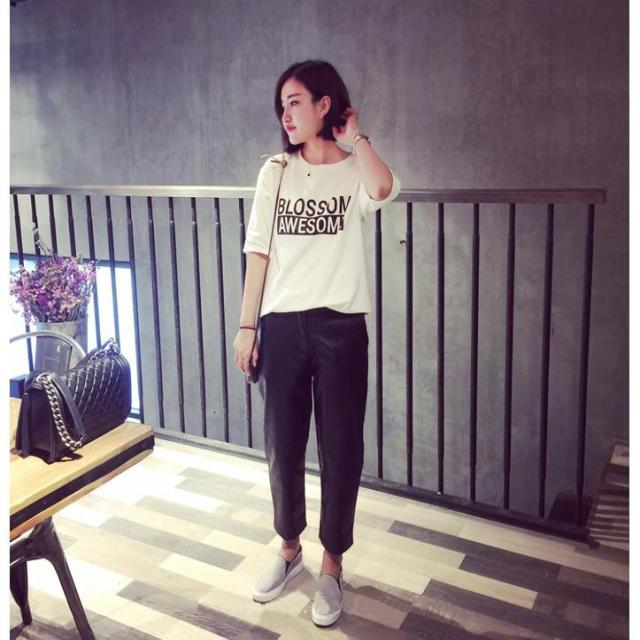short sleeve top: (244, 151, 395, 316)
trousers: (258, 305, 366, 544)
